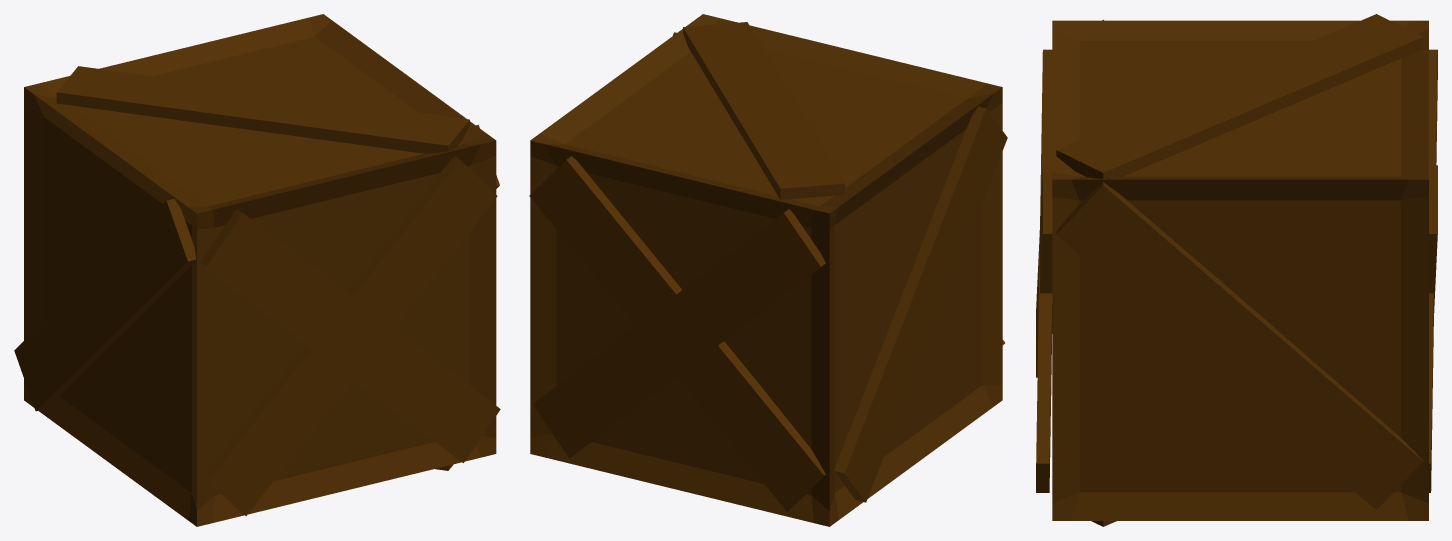
The model's file is Caixa.fbx.
3 renders of one model, left to right at view 1: azimuth 30°, elevation 25°; view 2: azimuth 150°, elevation 25°; view 3: azimuth 270°, elevation 25°, orthographic. The views are drawn at different scales.
Parts seen in each view (by area): view 1: Cube; view 2: Cube; view 3: Cube.
Part boxes in pixels (left/top/right/bottom): Cube: left=14, top=14, right=500, bottom=526; Cube: left=529, top=14, right=1007, bottom=526; Cube: left=1036, top=14, right=1437, bottom=526.
Size of the model in its own units: 212 by 211 by 213.
